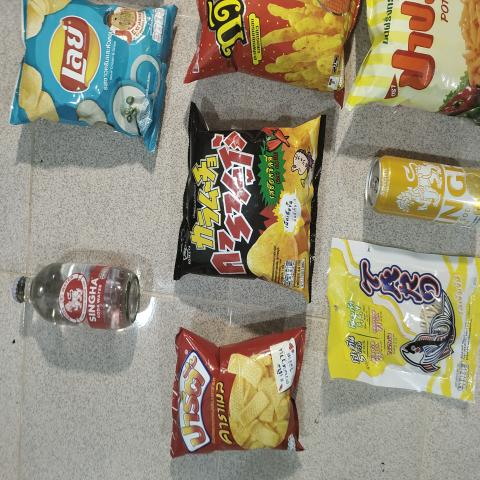karamujo: (193, 123, 325, 286)
lay_blue: (16, 0, 159, 150)
party_red: (177, 334, 299, 447)
singha_soda: (14, 262, 150, 332)
singha_yellow: (363, 147, 480, 239)
taro_yellow: (331, 246, 475, 396)
